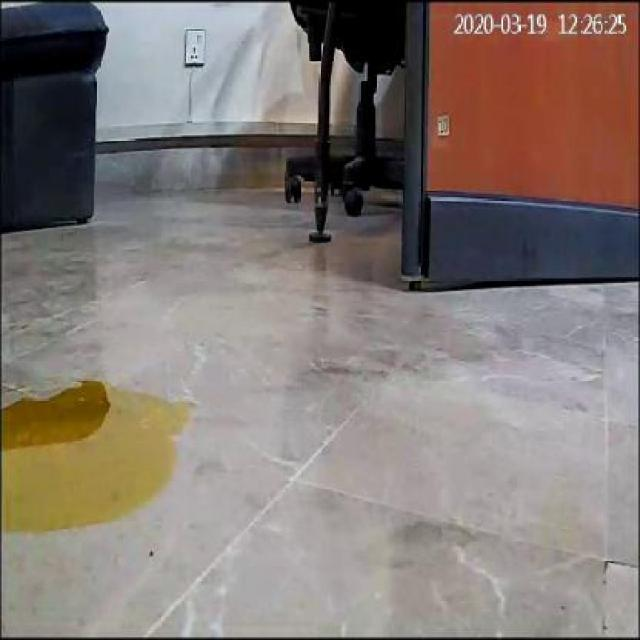spill: (6, 378, 189, 526)
